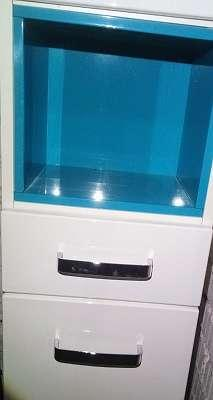cabinet_door: (2, 216, 204, 304), (9, 308, 196, 399)
handle: (56, 253, 158, 288), (56, 341, 147, 379)
